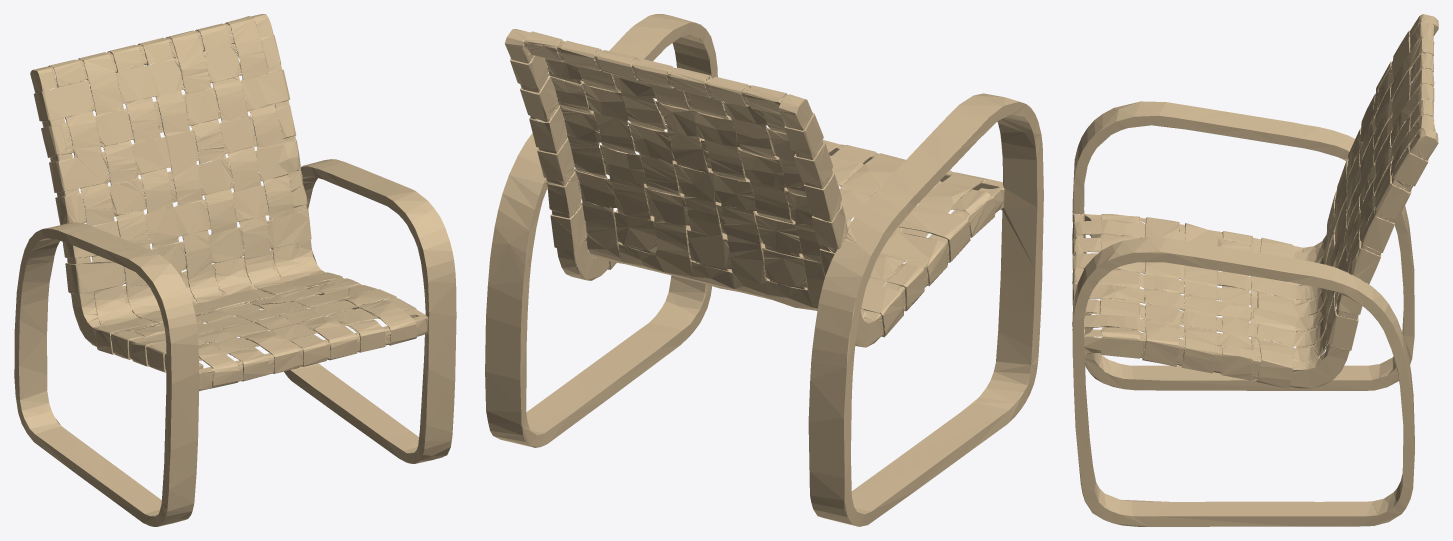
The model's file is gen-armchair-bent-birch-webbed-1.glb.
The picture shows the model from 3 angles, left to right: view 1: azimuth 30°, elevation 25°; view 2: azimuth 150°, elevation 25°; view 3: azimuth 270°, elevation 25°; orthographic projection. The views are drawn at different scales.
Parts seen in each view (by area): view 1: gen-armchair-bent-birch-webbed-1_part1; view 2: gen-armchair-bent-birch-webbed-1_part1; view 3: gen-armchair-bent-birch-webbed-1_part1.
Part boxes in pixels (bbox=[...]): gen-armchair-bent-birch-webbed-1_part1: bbox=[14, 14, 456, 526]; gen-armchair-bent-birch-webbed-1_part1: bbox=[485, 14, 1043, 526]; gen-armchair-bent-birch-webbed-1_part1: bbox=[1072, 14, 1438, 526].
Bounding box in the file's own units: 688 × 800 × 704.
